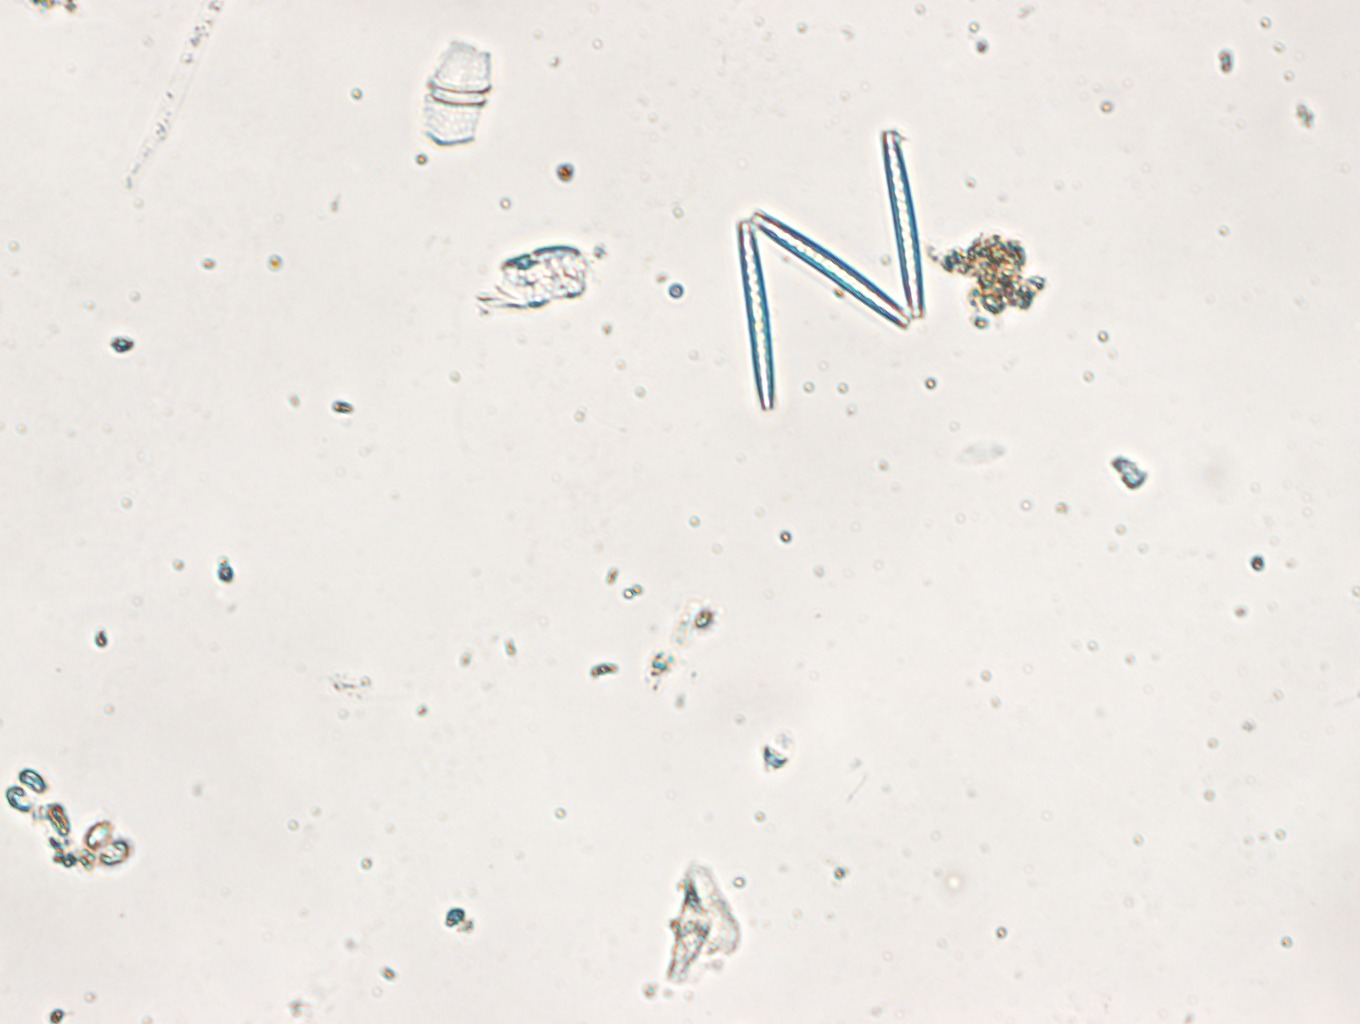thalassionema nitzschioides: (726, 122, 933, 415)
